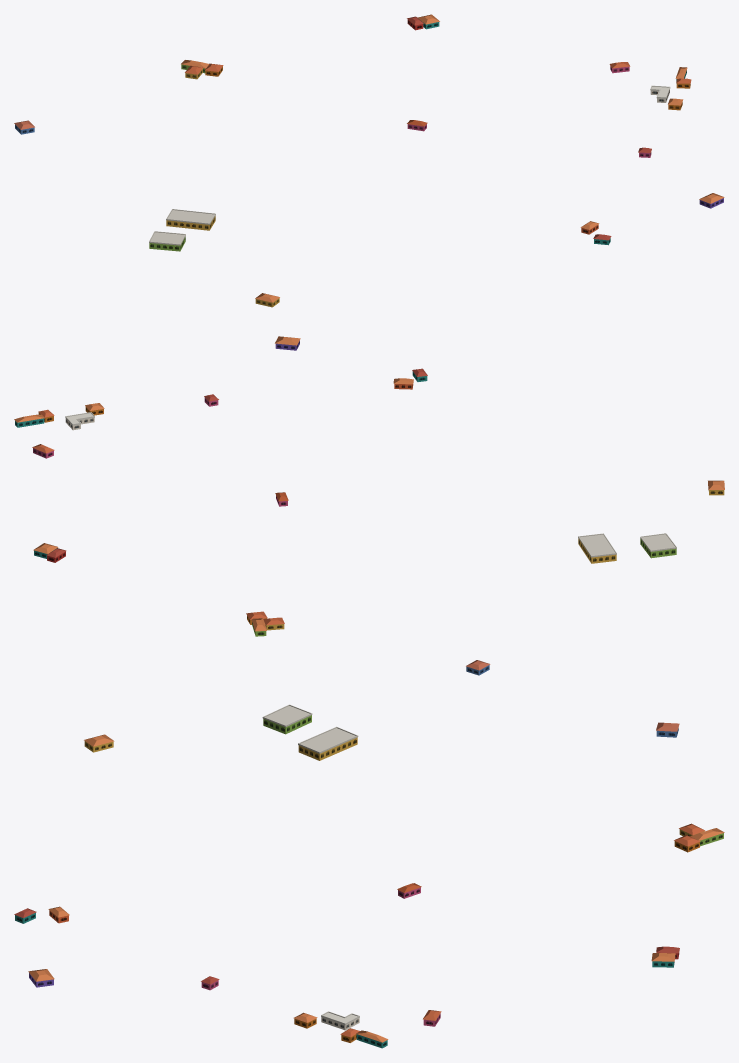
Rendered from msb_oranjestad_m14_1.glb.
The picture shows the model from 3 angles, top to bottom: view 1: azimuth 30°, elevation 25°; view 2: azimuth 150°, elevation 25°; view 3: azimuth 270°, elevation 25°; orthographic projection. The views are drawn at different scales.
Parts seen in each view (by area): view 1: msb_oranjestad_m14_1_lod0; view 2: msb_oranjestad_m14_1_lod0; view 3: msb_oranjestad_m14_1_lod0.
Part boxes in pixels (x1=…): msb_oranjestad_m14_1_lod0: x1=14, y1=14, x2=724, y2=307; msb_oranjestad_m14_1_lod0: x1=14, y1=336, x2=724, y2=675; msb_oranjestad_m14_1_lod0: x1=14, y1=704, x2=724, y2=1048.
Size of what is drawn, in the model's own units: 415 by 15.29 by 361.
Materials: 3 (1 with a texture image).
